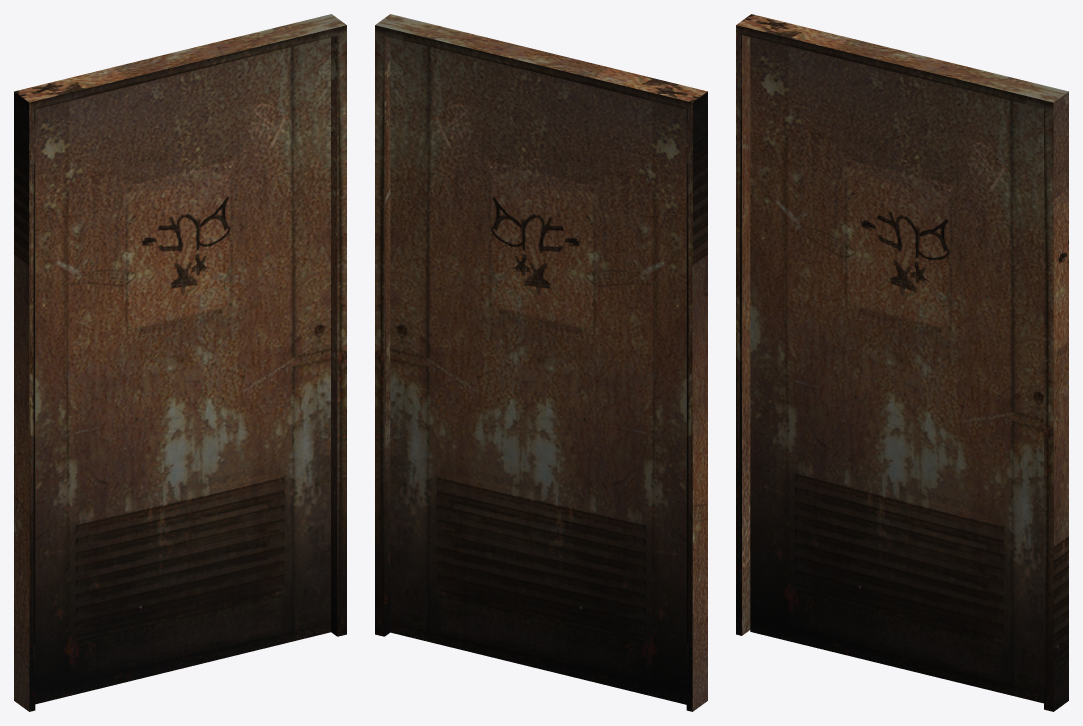
Rendered from door03_closed.fbx.
3 views of the same model, side by side, from view 1: azimuth 30°, elevation 25°; view 2: azimuth 150°, elevation 25°; view 3: azimuth 330°, elevation 25° (orthographic).
Visible parts, largest first — view 1: door03_closed; view 2: door03_closed; view 3: door03_closed.
Boxes of the visible parts, x1,y1,x2,y2 form: door03_closed: [14, 14, 346, 711]; door03_closed: [375, 14, 707, 711]; door03_closed: [736, 14, 1068, 711].
Bounding box in the file's own units: 120 × 220 × 10.
